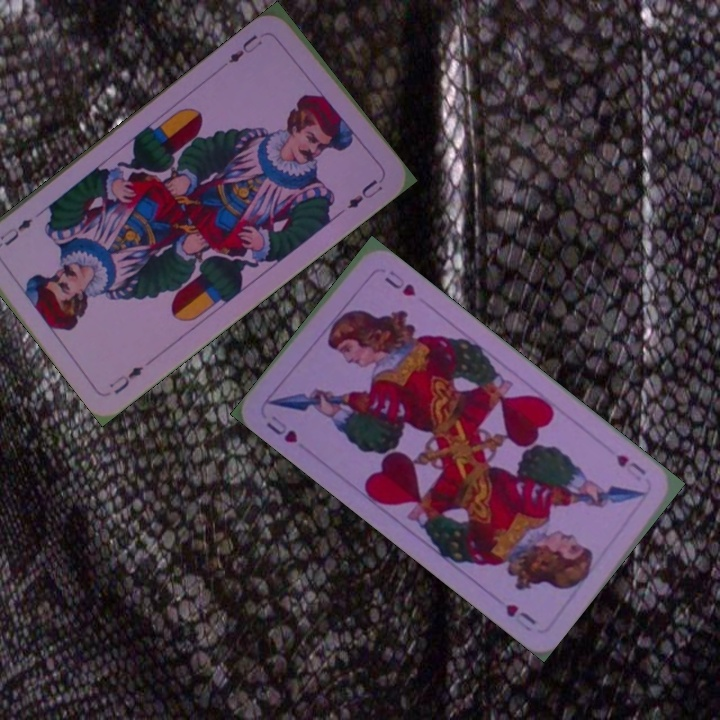EU: (223, 30, 265, 66), (105, 361, 146, 397)
HU: (262, 411, 300, 446), (612, 450, 649, 478)
